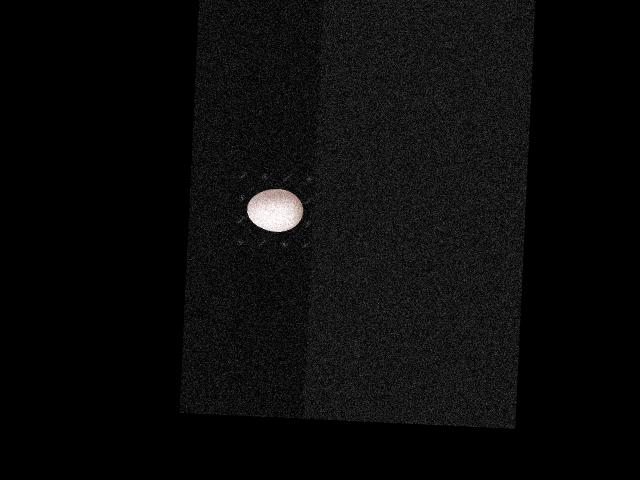egg: (246, 188, 303, 233)
